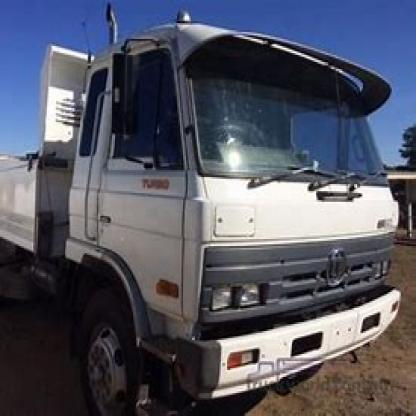dump_truck: (1, 11, 400, 414)
